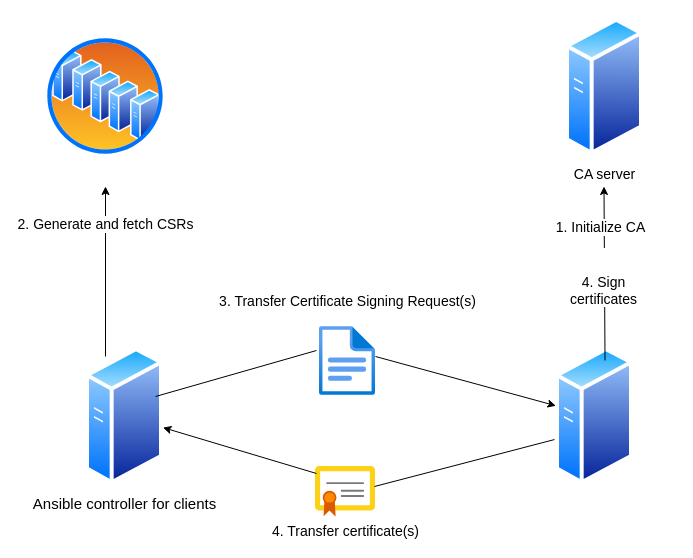
Image size: 693x558. Some labels were removed from this diagram. The box of each missing label's shape, as (x1, y1, x2, y2) in pixels:
Ansible controller for CA: (555, 346, 633, 485)
Clients: (45, 36, 165, 156)
